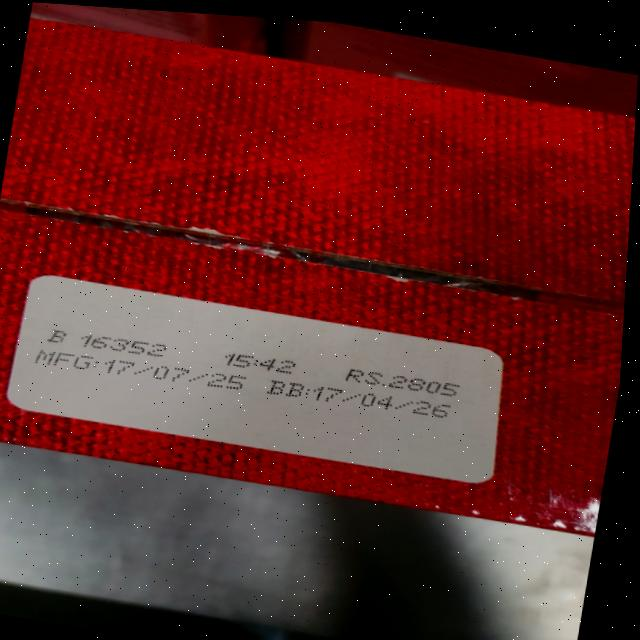BB: (270, 375, 457, 425)
Batch: (42, 326, 171, 362)
MFG: (35, 343, 250, 398)
RS: (343, 365, 465, 400)
TimeStamp: (222, 350, 300, 377)
